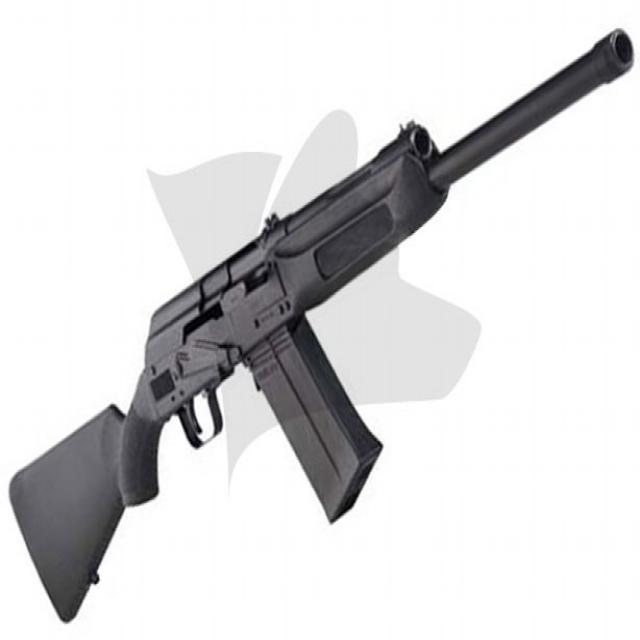weapon: (7, 27, 636, 626)
